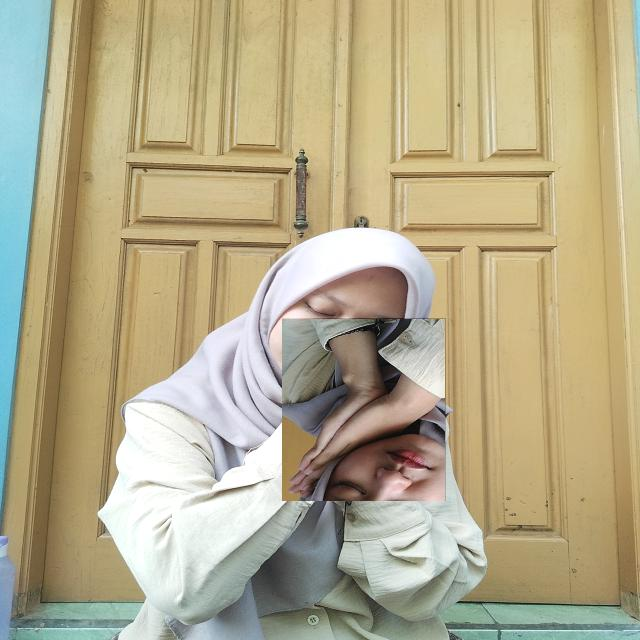tidur: (282, 318, 446, 501)
